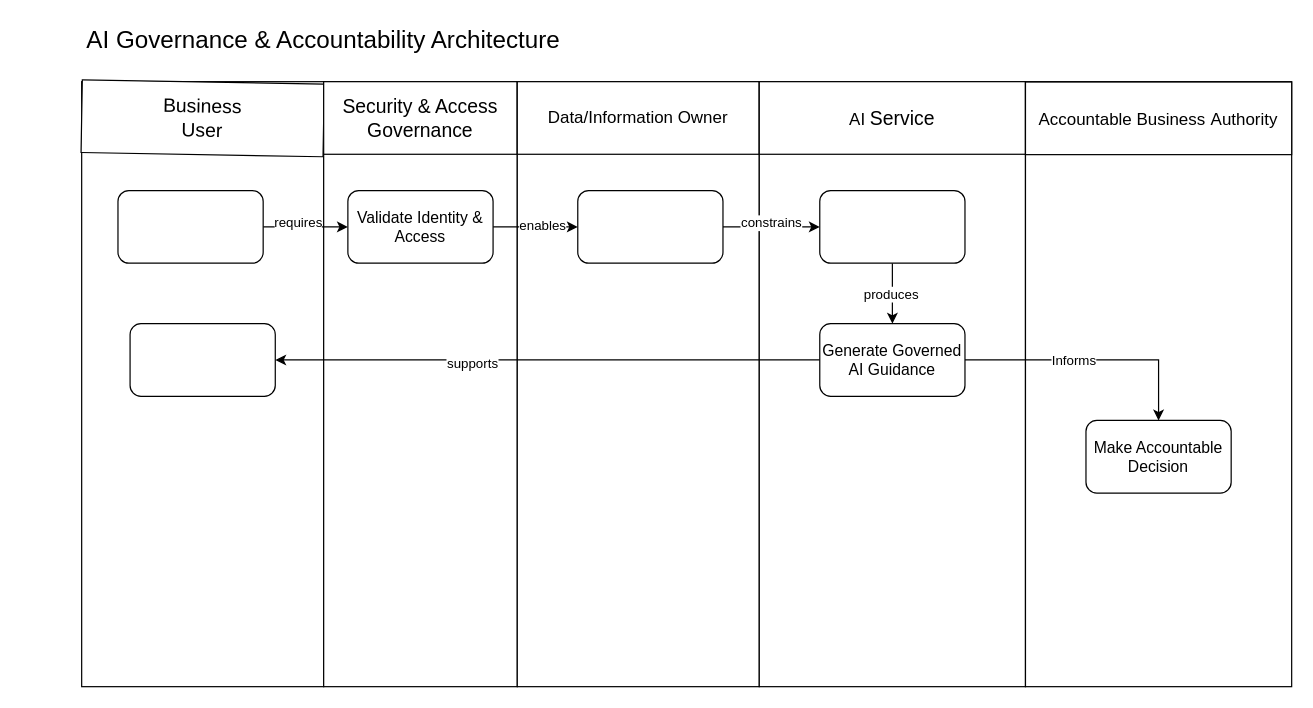
Some shapes in this 1313 by 708 pixel diagram are drawn without their labels. The shapes that lost their labels are listed below. From the top down, each one's centre as x and y in pixels, then its label:
point 190,226: Seek AI Assisted Business Guidance
point 650,226: Confirm Approprate Infromation Use
point 892,226: Use Only Authorized Information
point 202,359: Use Guidance Routine Work
